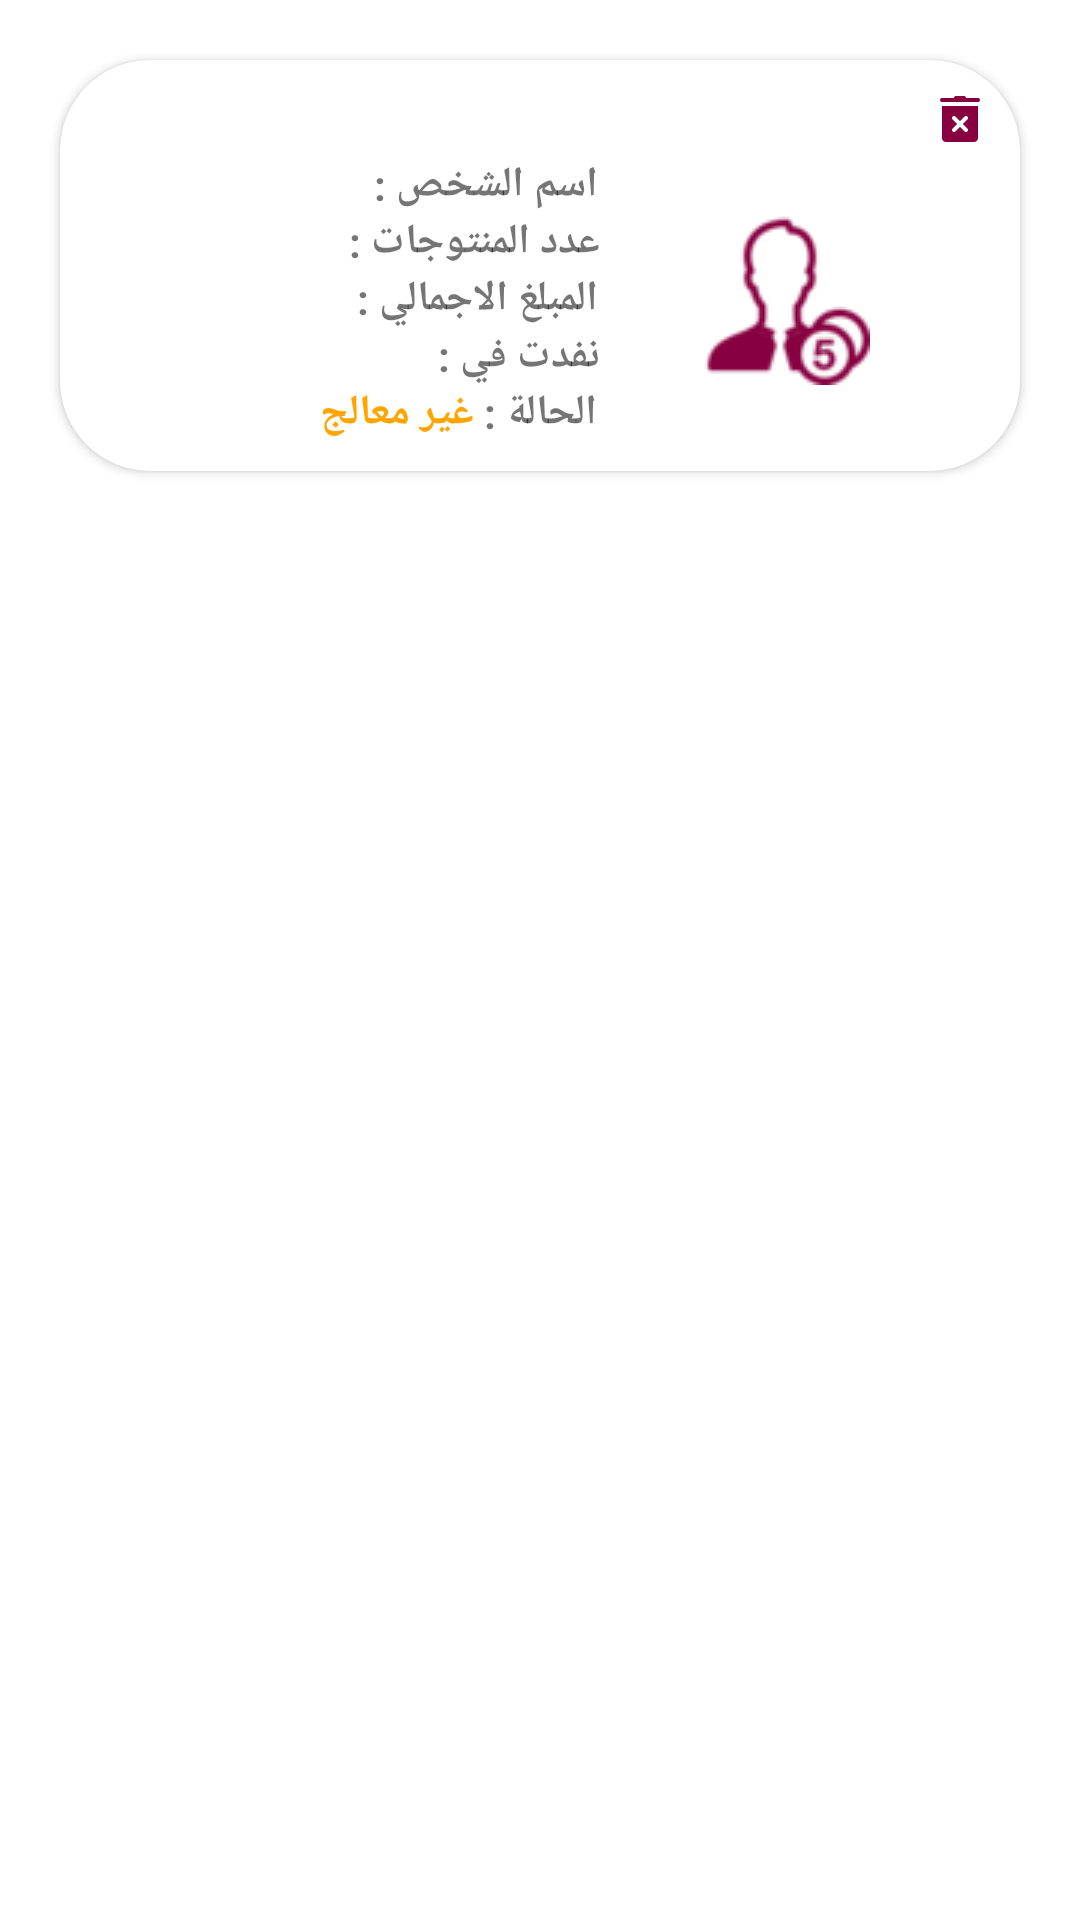

Where icons sit on this 1080w x 1920h app screen, as (x1, y1, x2, y2):
client: (707, 217, 870, 385)
remove: (940, 96, 980, 142)
